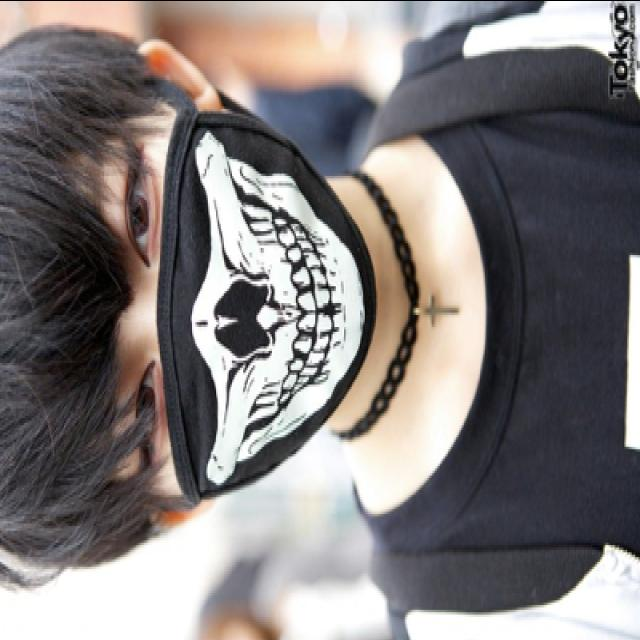mask: (73, 108, 380, 508)
